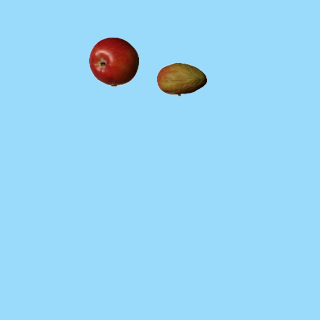Apple Braeburn: (88, 36, 138, 86)
Papaya: (156, 54, 206, 104)
